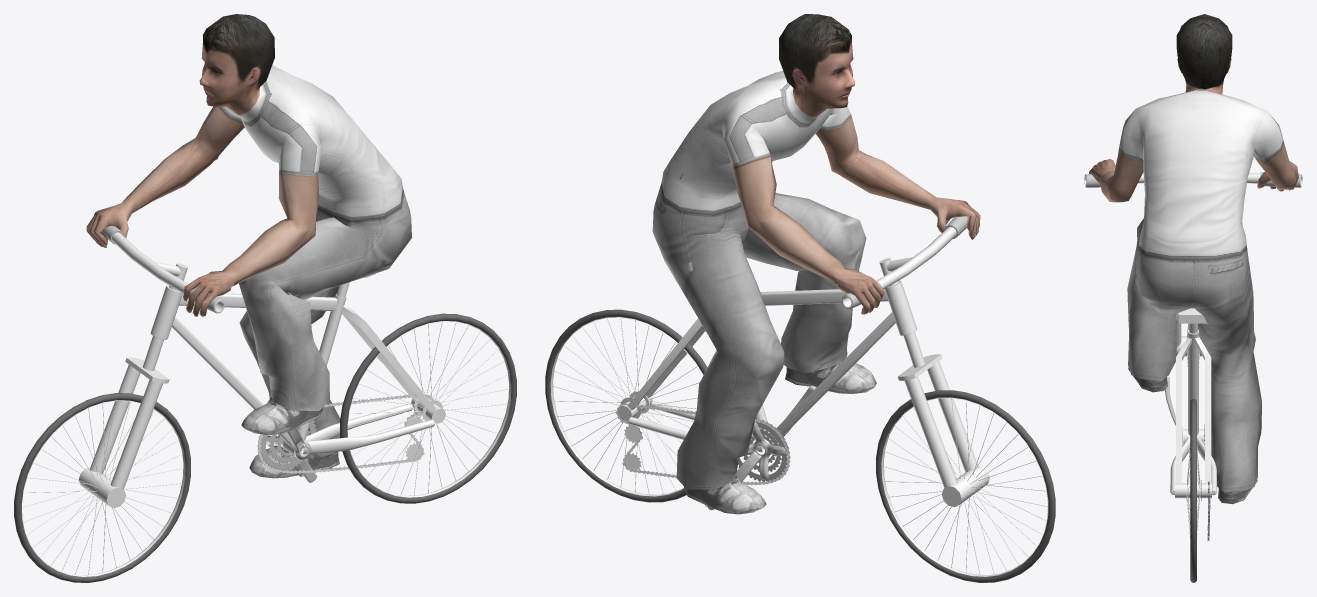
File: bike.glb
The picture shows the model from 3 angles, left to right: view 1: azimuth 30°, elevation 25°; view 2: azimuth 150°, elevation 25°; view 3: azimuth 270°, elevation 25°; orthographic projection. The views are drawn at different scales.
Visible parts, largest first — view 1: bike; view 2: bike; view 3: bike.
Part boxes in pixels (left/top/right/bottom): bike: left=14, top=14, right=516, bottom=582; bike: left=545, top=14, right=1055, bottom=582; bike: left=1084, top=14, right=1302, bottom=582.
Bounding box in the file's own units: 68.7 × 68.56 × 28.59.
4 materials, 1 textured.
